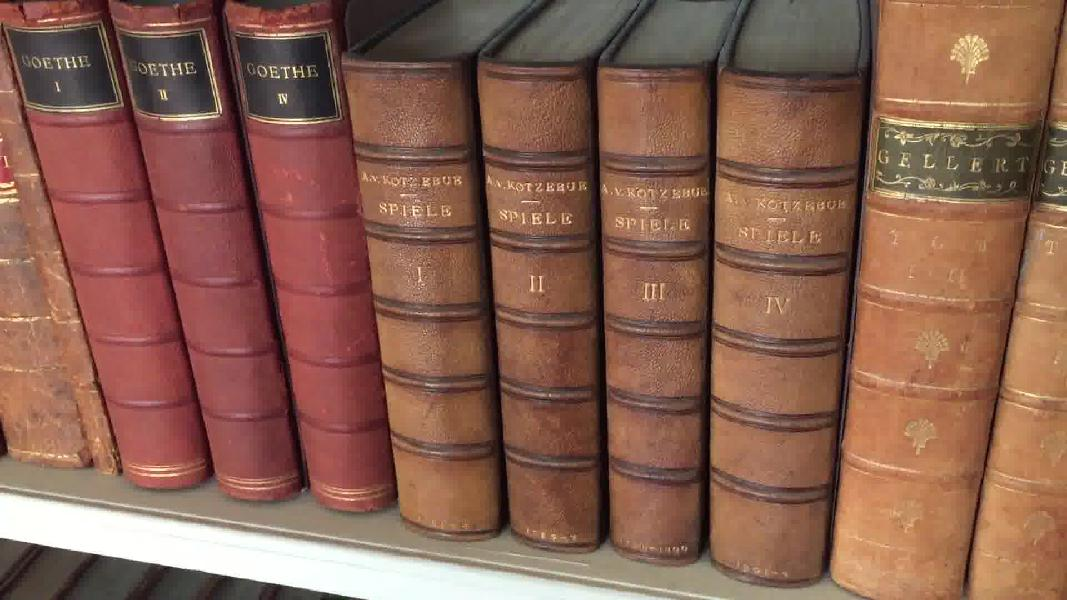Aa6-11_13: (1, 17, 402, 528)
Aa6-14_17: (336, 43, 885, 600)
